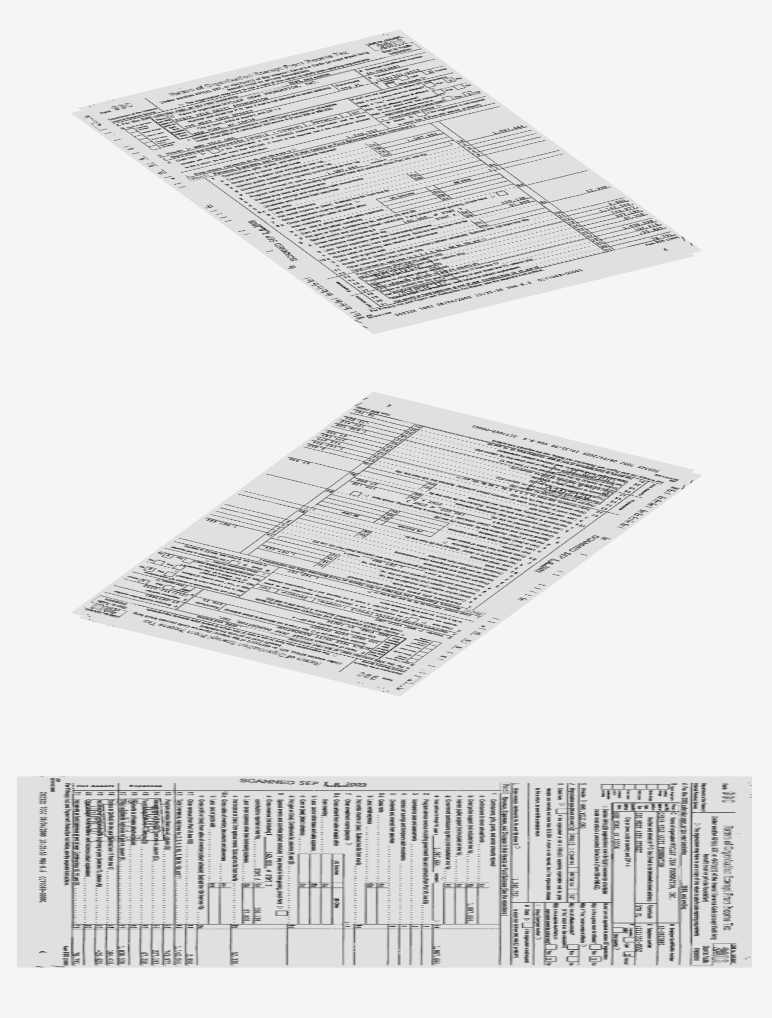
Rendered from off_decal20.fbx.
3 renders of one model, top to bottom at view 1: azimuth 30°, elevation 25°; view 2: azimuth 150°, elevation 25°; view 3: azimuth 270°, elevation 25°, orthographic. The views are drawn at different scales.
Parts seen in each view (by area): view 1: Plane01, Duplicate00; view 2: Plane01, Duplicate00; view 3: Plane01, Duplicate00.
Boxes of the visible parts, x1,y1,x2,y2 form: Plane01: (79, 29, 701, 329); Duplicate00: (71, 110, 693, 334); Plane01: (71, 391, 693, 691); Duplicate00: (79, 472, 701, 696); Plane01: (17, 777, 751, 967); Duplicate00: (17, 776, 751, 776).
Bounding box in the file's own units: 12.83 × 0.0909 × 15.54.
